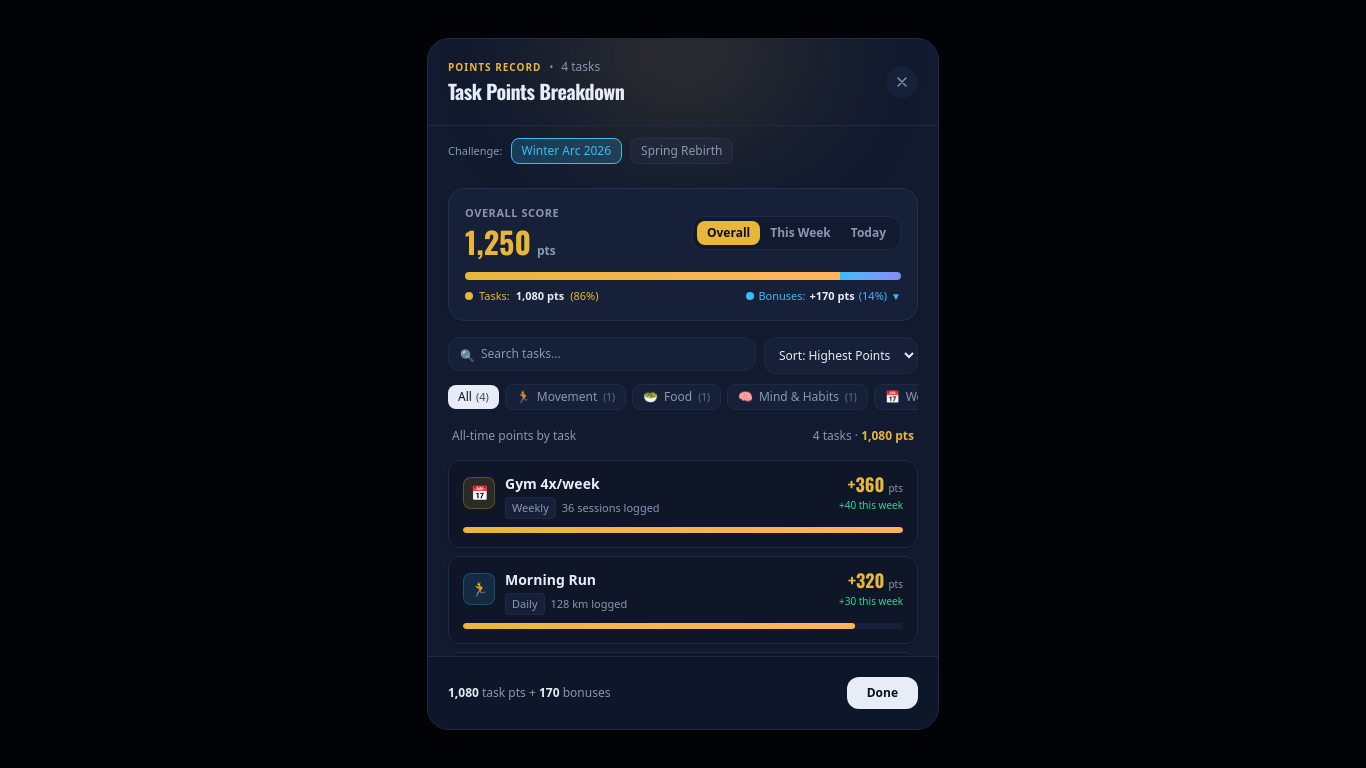
Test: TaskPointsModal › toggles timeframe and updates displayed points
Check: the text "All-time points by task" is shown, box [452,428,576,444]
Switch to This Week
Click the button "This Week" at {"x": 800, "y": 233}, box [760,221,841,245]
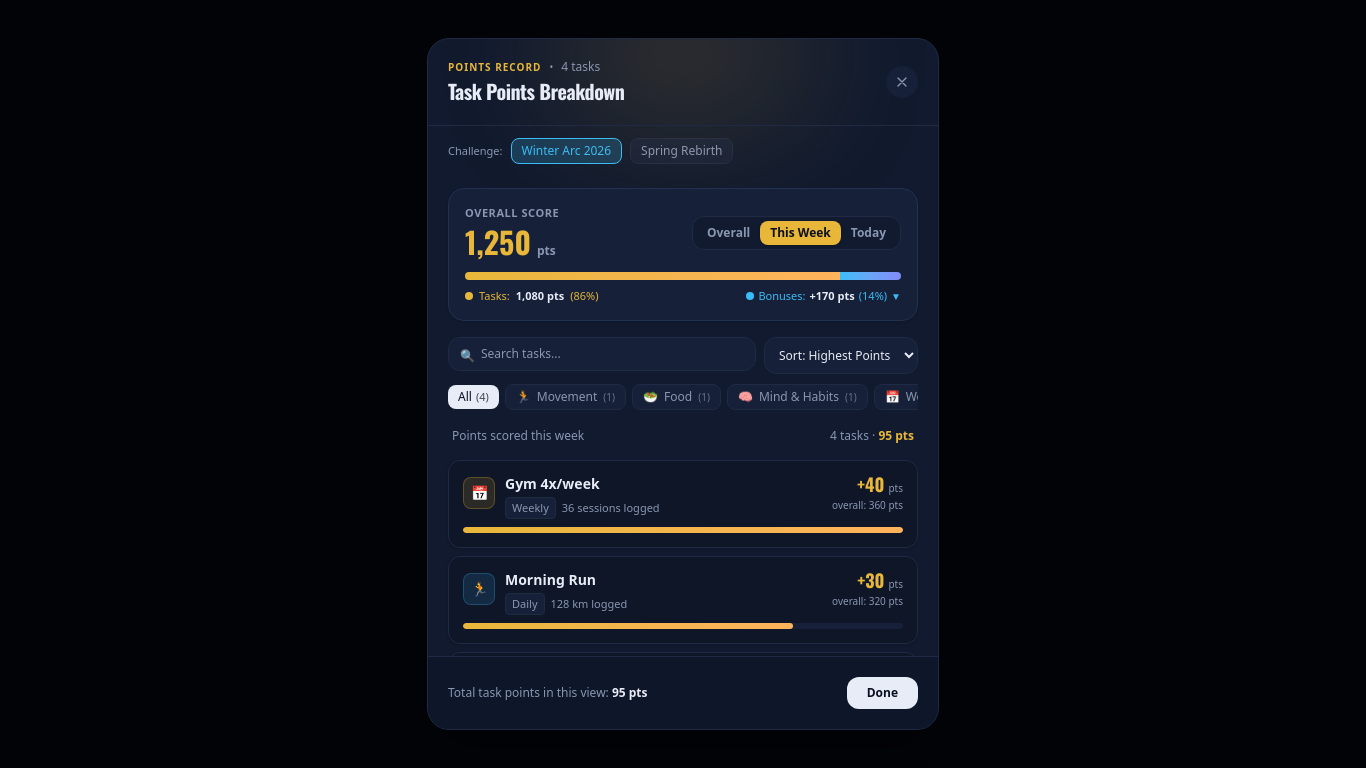
Check: the text "Points scored this week" is shown, box [452,428,584,444]
Check: the text "+30" is shown, box [857,571,884,589]
Switch to Today
Click the button "Today" at {"x": 868, "y": 233}, box [841,221,896,245]
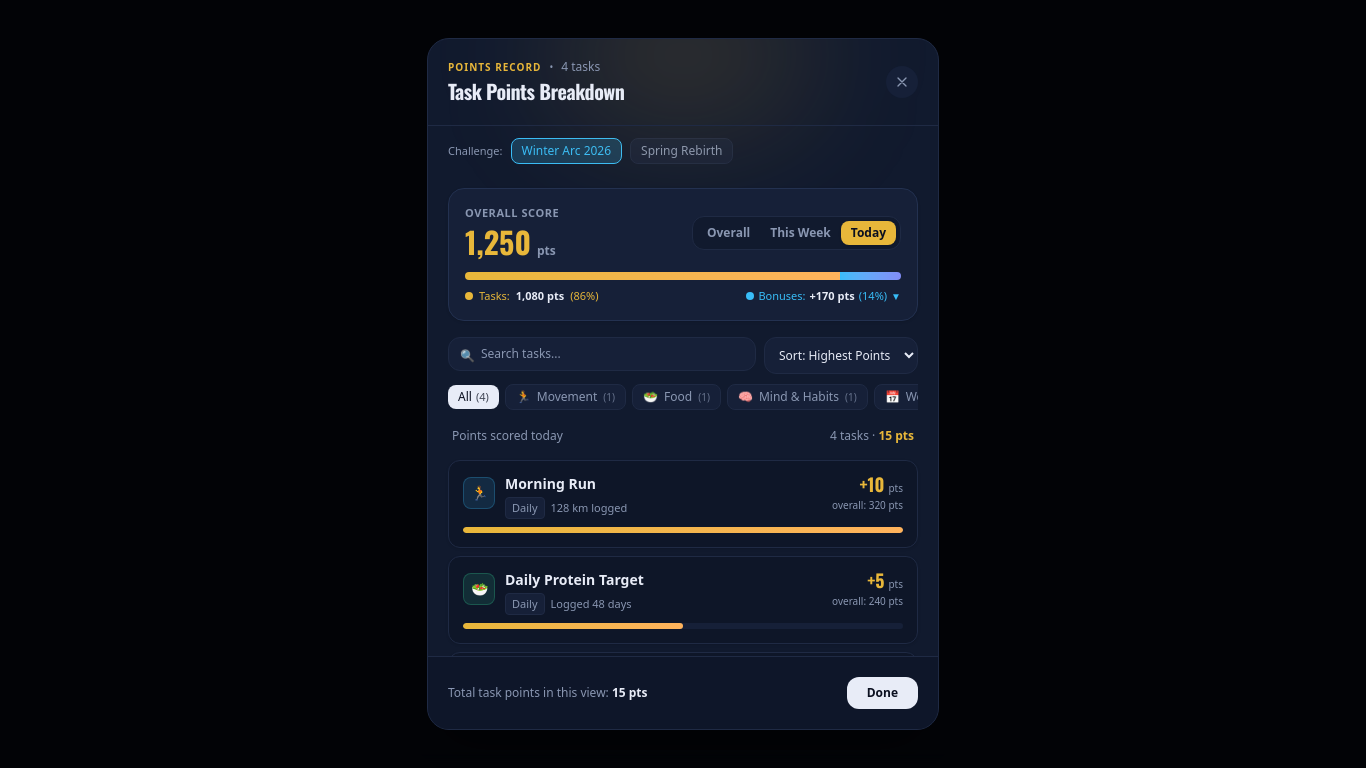
Check: the text "Points scored today" is shown, box [452,428,563,444]
Check: the text "+10" is shown, box [860,475,884,493]
